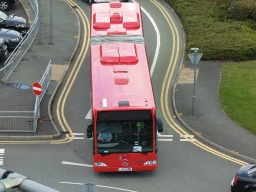bus: (87, 2, 162, 178)
